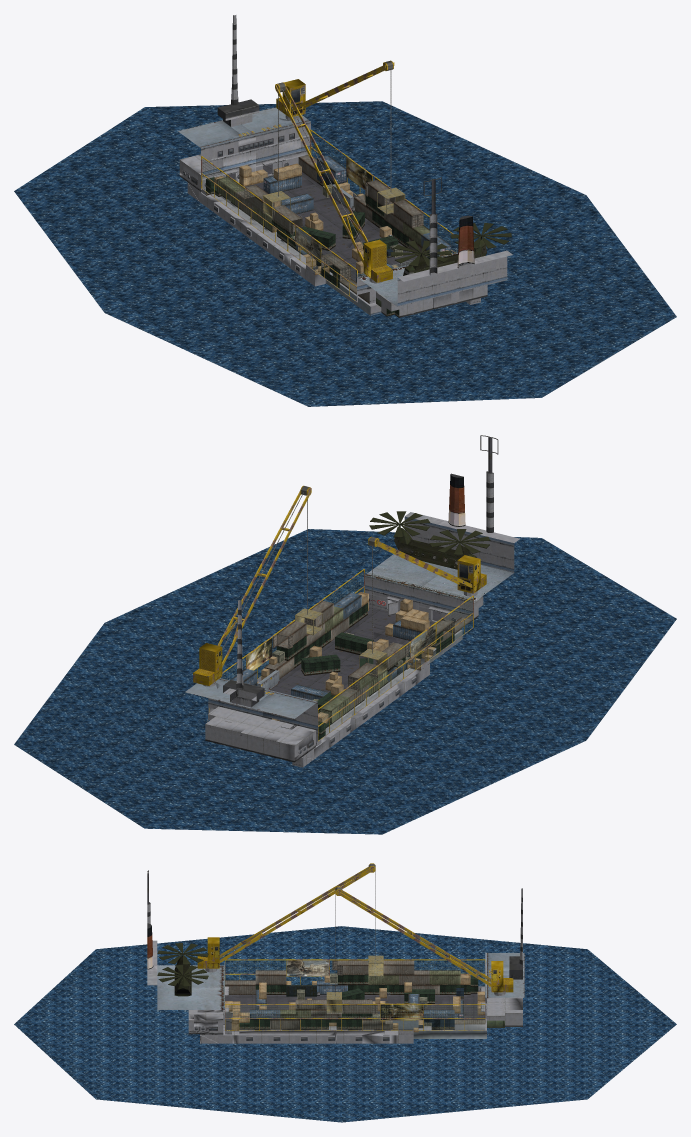
The model's file is ship3.glb.
3 views of the same model, one above another, from view 1: azimuth 30°, elevation 25°; view 2: azimuth 150°, elevation 25°; view 3: azimuth 270°, elevation 25° (orthographic). The views are drawn at different scales.
Visible parts, largest first — view 1: model; view 2: model; view 3: model.
Part boxes in pixels (x1=…): model: x1=14, y1=15, x2=676, y2=406; model: x1=14, y1=435, x2=676, y2=834; model: x1=14, y1=863, x2=676, y2=1122.
Size of the model in its own units: 4352 by 1581 by 6212.
Materials: 48 (48 with a texture image).
